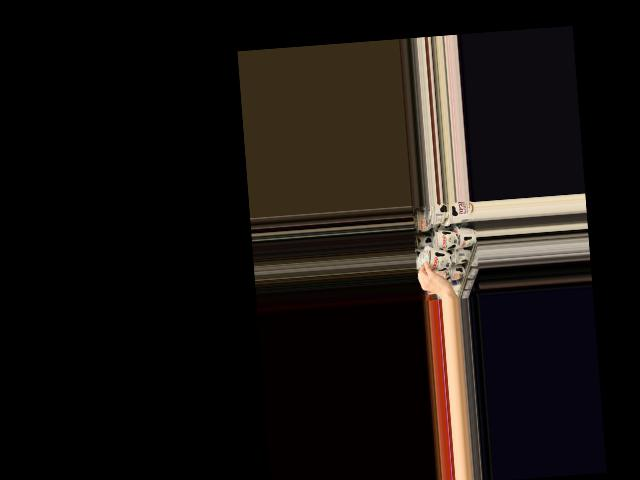cotage: (423, 244, 451, 271)
